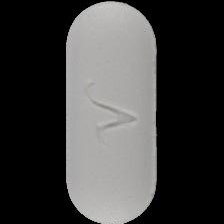33261-011: (0, 0, 224, 224)
